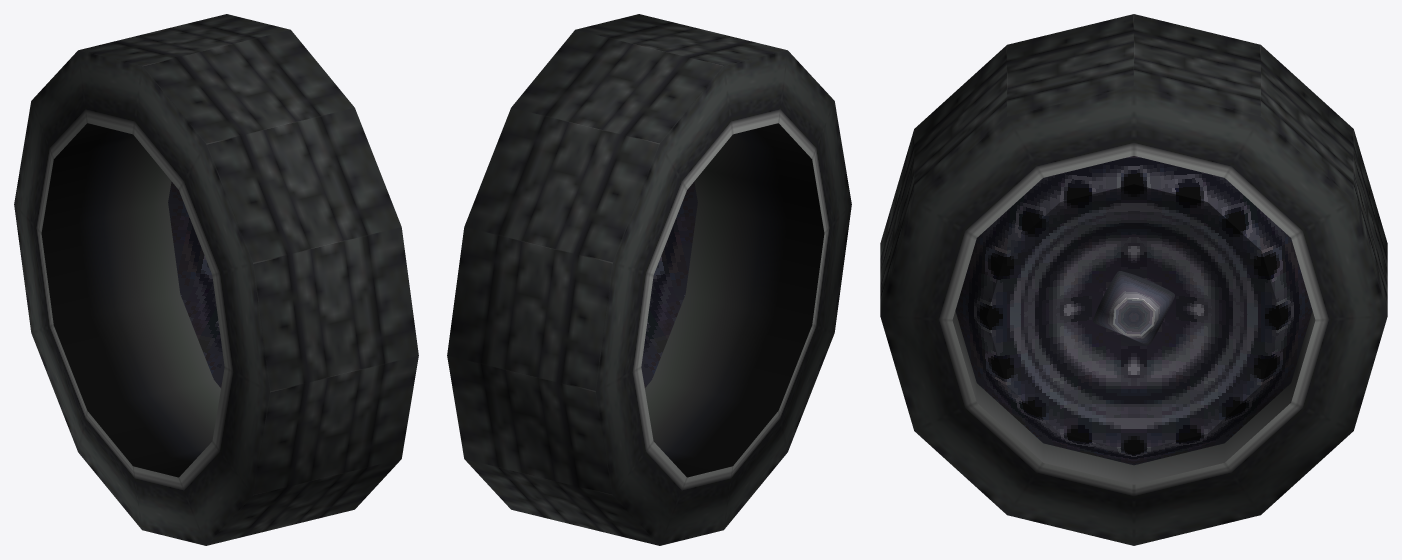
Rendered from DefaultWheel_clover.glb.
3 views of the same model, side by side, from view 1: azimuth 30°, elevation 25°; view 2: azimuth 150°, elevation 25°; view 3: azimuth 270°, elevation 25° (orthographic).
Visible parts, largest first — view 1: wheel; view 2: wheel; view 3: wheel.
Part boxes in pixels (left/top/right/bottom): wheel: left=14, top=14, right=418, bottom=545; wheel: left=447, top=14, right=851, bottom=545; wheel: left=880, top=14, right=1387, bottom=545.
Bounding box in the file's own units: 0.2858 × 0.7599 × 0.7599.
3 materials, 3 textured.
